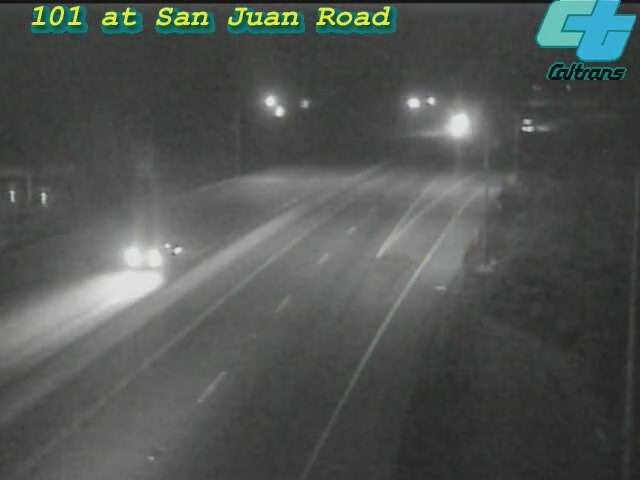vehicle: (103, 218, 183, 298), (430, 99, 480, 149), (506, 100, 556, 150)
